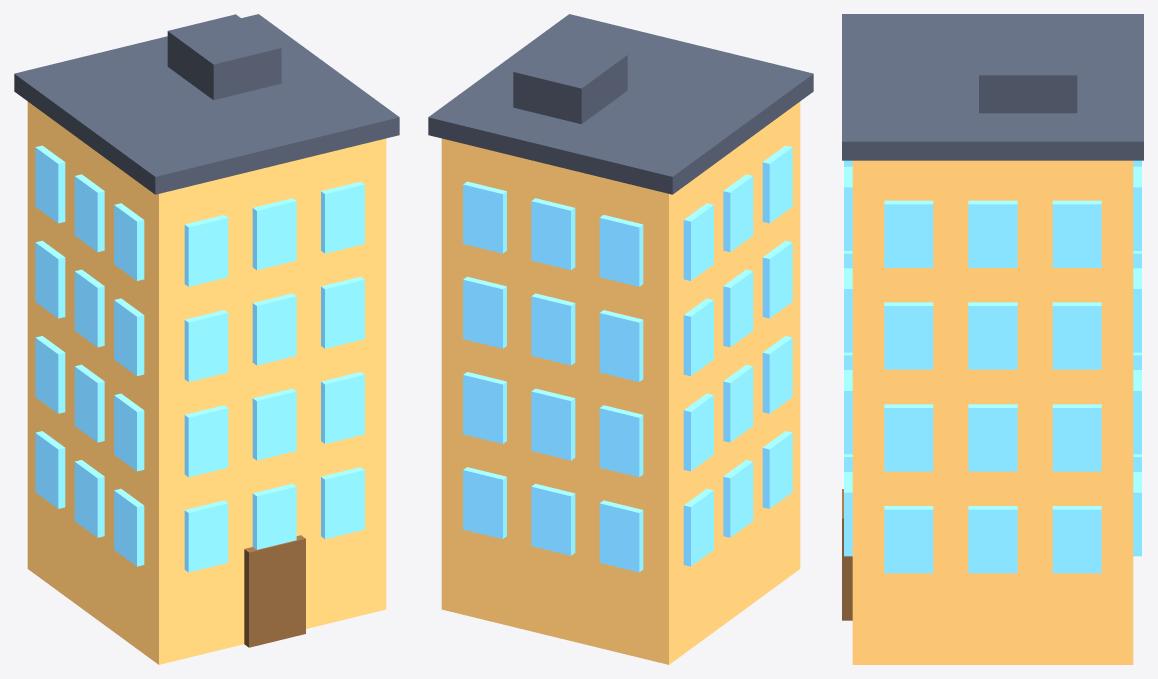
Rendered from residential_3.glb.
3 views of the same model, side by side, from view 1: azimuth 30°, elevation 25°; view 2: azimuth 150°, elevation 25°; view 3: azimuth 270°, elevation 25° (orthographic). The views are drawn at different scales.
Visible parts, largest first — view 1: residential_3; view 2: residential_3; view 3: residential_3.
Part boxes in pixels (left/top/right/bottom): residential_3: left=14, top=14, right=399, bottom=664; residential_3: left=428, top=14, right=813, bottom=664; residential_3: left=842, top=14, right=1143, bottom=664.
Size of the model in its own units: 0.86 by 1.78 by 0.86.
